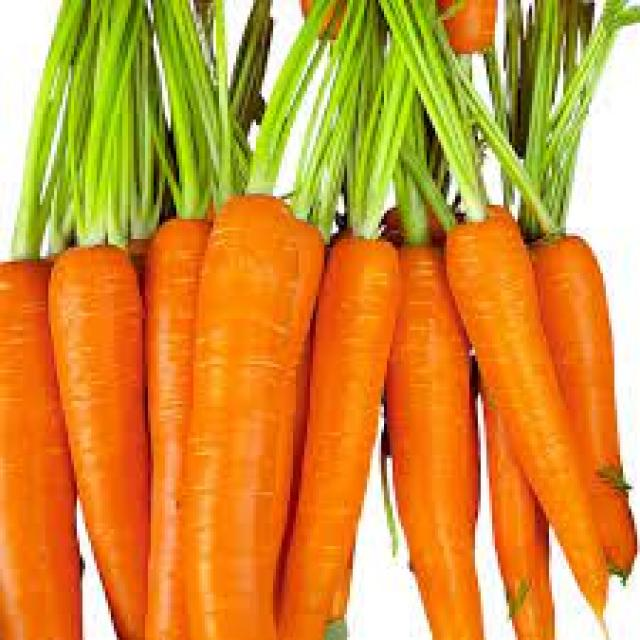Carrot: (48, 244, 158, 631), (390, 250, 486, 640)
